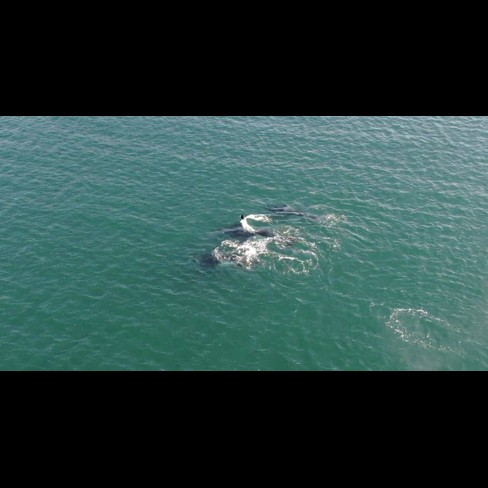orca: (198, 216, 305, 248), (178, 242, 287, 272), (255, 199, 332, 228)
